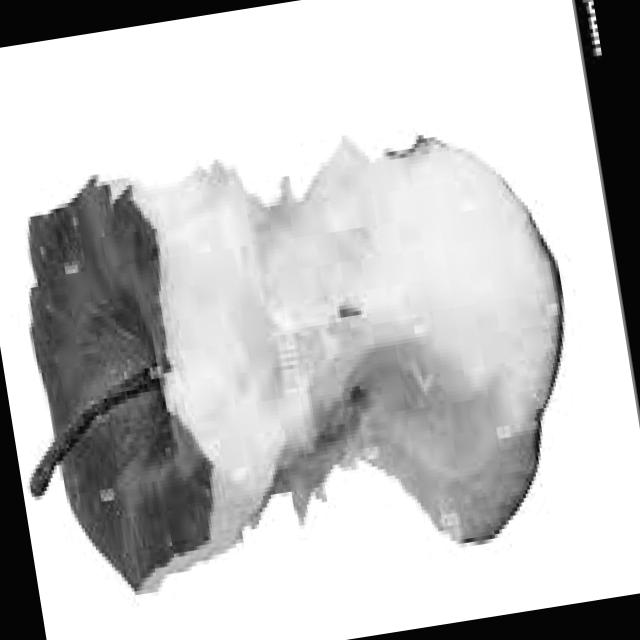Used Apple: (6, 100, 599, 612)
